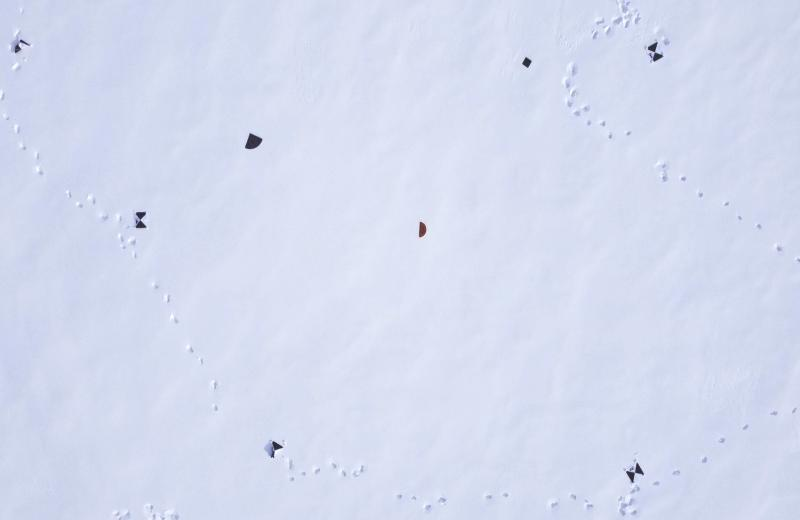Quarter Circle: (243, 133, 263, 152)
Semi Circle: (416, 221, 428, 238)
Square: (521, 54, 533, 69)
